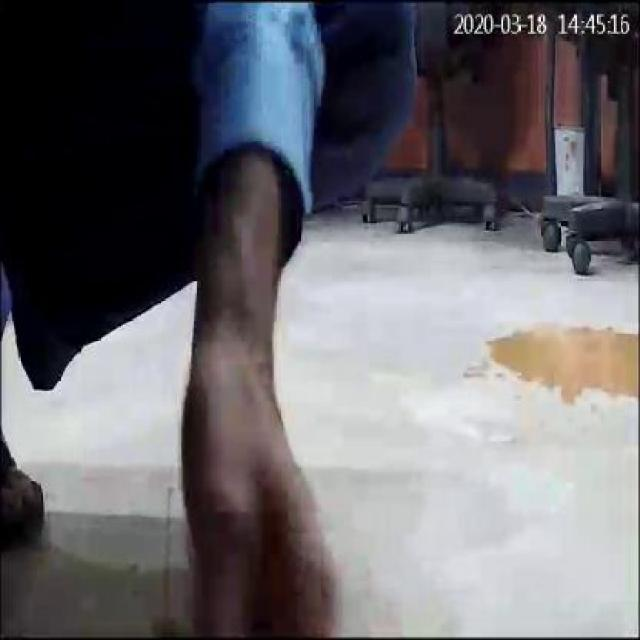spill: (488, 316, 632, 415)
